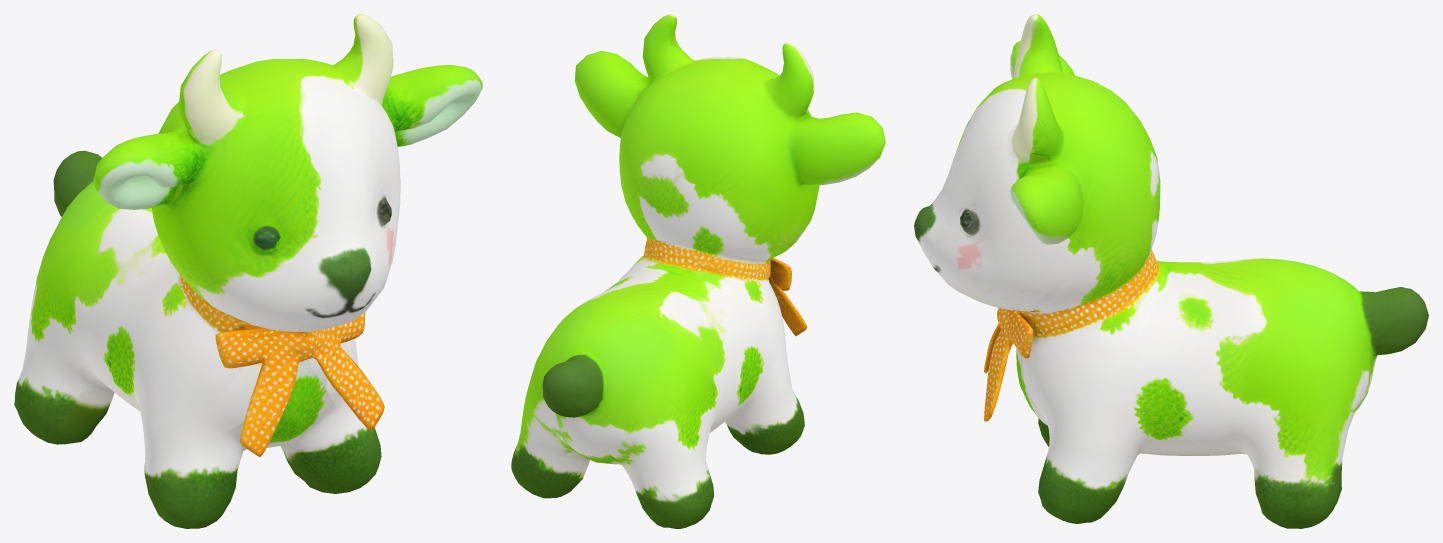
File: pack_glb_base_basic_shaded.glb
The picture shows the model from 3 angles, left to right: view 1: azimuth 30°, elevation 25°; view 2: azimuth 150°, elevation 25°; view 3: azimuth 270°, elevation 25°; orthographic projection. The views are drawn at different scales.
Visible parts, largest first — view 1: model; view 2: model; view 3: model.
Boxes of the visible parts, x1,y1,x2,y2 form: model: [14, 14, 482, 528]; model: [511, 14, 885, 528]; model: [914, 14, 1428, 528].
Bounding box in the file's own units: 1.48 × 1.8 × 1.9.
Materials: 1 (1 with a texture image).
